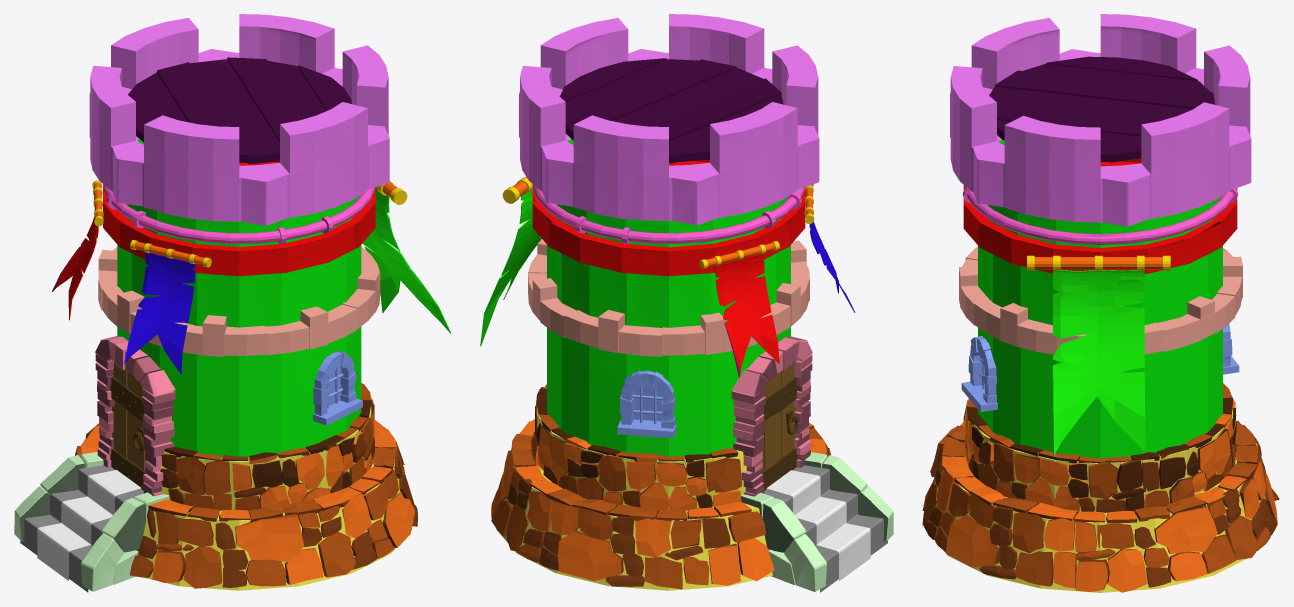
The model's file is Torre_BannerSeparado.fbx.
3 renders of one model, left to right at view 1: azimuth 30°, elevation 25°; view 2: azimuth 150°, elevation 25°; view 3: azimuth 270°, elevation 25°, orthographic.
Parts seen in each view (by area): view 1: Tower, Banners; view 2: Tower, Banners; view 3: Tower, Banners.
Part boxes in pixels (x1,y1,x2,y2): Tower: (14, 14, 417, 592); Banners: (52, 180, 451, 374); Tower: (491, 14, 893, 592); Banners: (480, 177, 855, 377); Tower: (922, 14, 1279, 592); Banners: (1027, 255, 1170, 456).
Bounding box in the file's own units: 4858 × 5497 × 3959.
